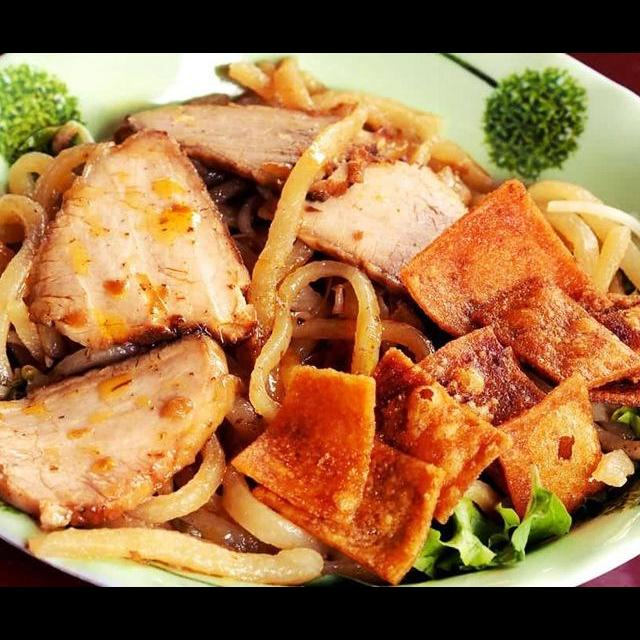banh da: (392, 176, 618, 347), (246, 430, 449, 587), (353, 346, 517, 524), (228, 360, 380, 530), (481, 368, 615, 530), (410, 321, 553, 472), (466, 273, 640, 396), (534, 287, 640, 412)
mi: (20, 427, 331, 587), (238, 226, 438, 436), (0, 112, 102, 412), (206, 54, 447, 178), (519, 175, 640, 327)
mi quang: (0, 93, 640, 586)
thit heo: (17, 125, 262, 356), (0, 324, 246, 535), (110, 88, 413, 204), (258, 153, 492, 298)
